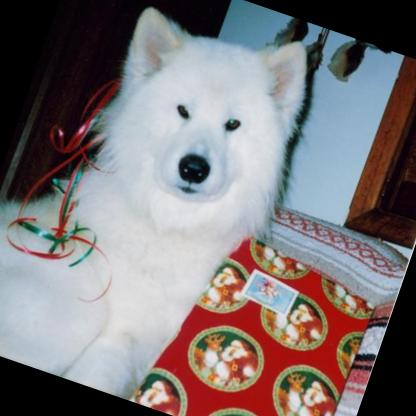Samoyed: (0, 0, 329, 416)
